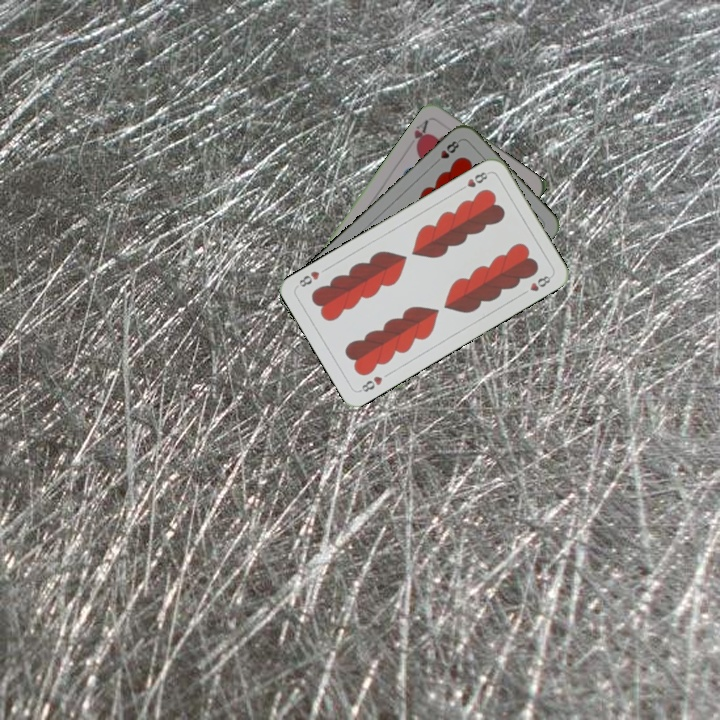H8: (430, 136, 463, 167), (455, 168, 491, 194), (355, 372, 385, 395)
HA: (410, 115, 431, 154)
